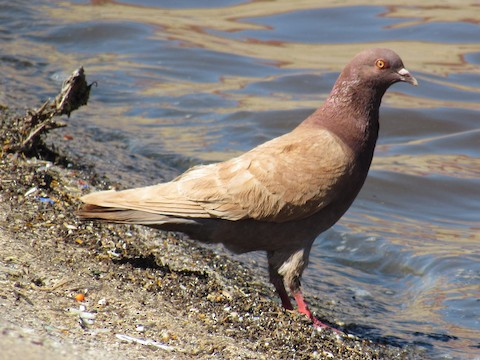pigeon: (77, 44, 427, 338)
